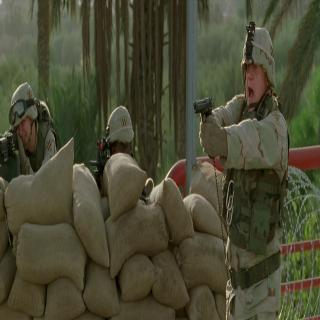gun: (192, 87, 220, 167)
